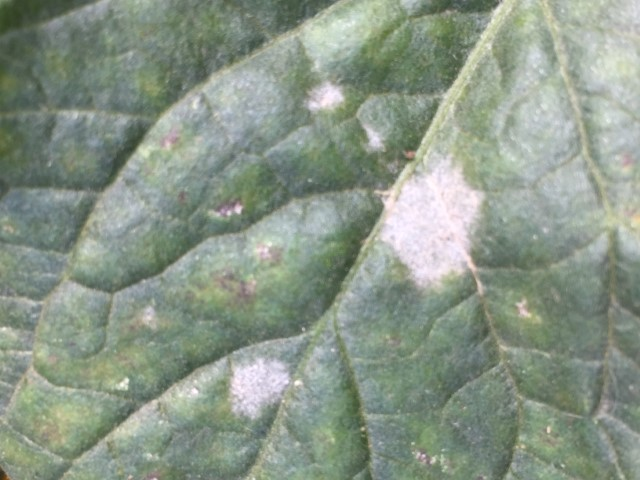oidio: (384, 156, 485, 287), (229, 354, 289, 418), (305, 81, 344, 115), (361, 124, 383, 154), (137, 303, 158, 331), (114, 375, 132, 392)
